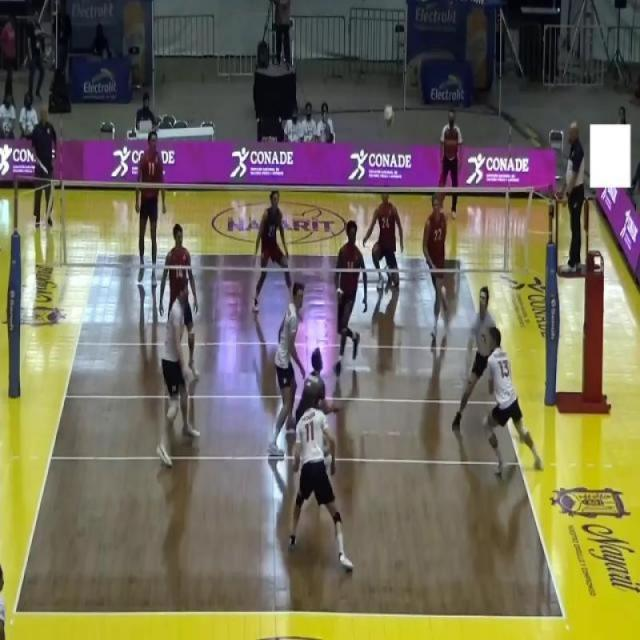volleyball: (383, 103, 395, 130)
